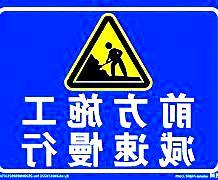sign: (1, 4, 217, 176)
